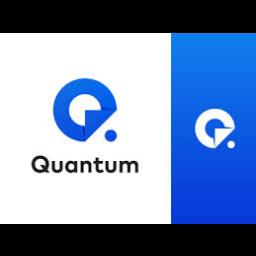q: (29, 154, 53, 176)
u: (48, 156, 64, 172)
